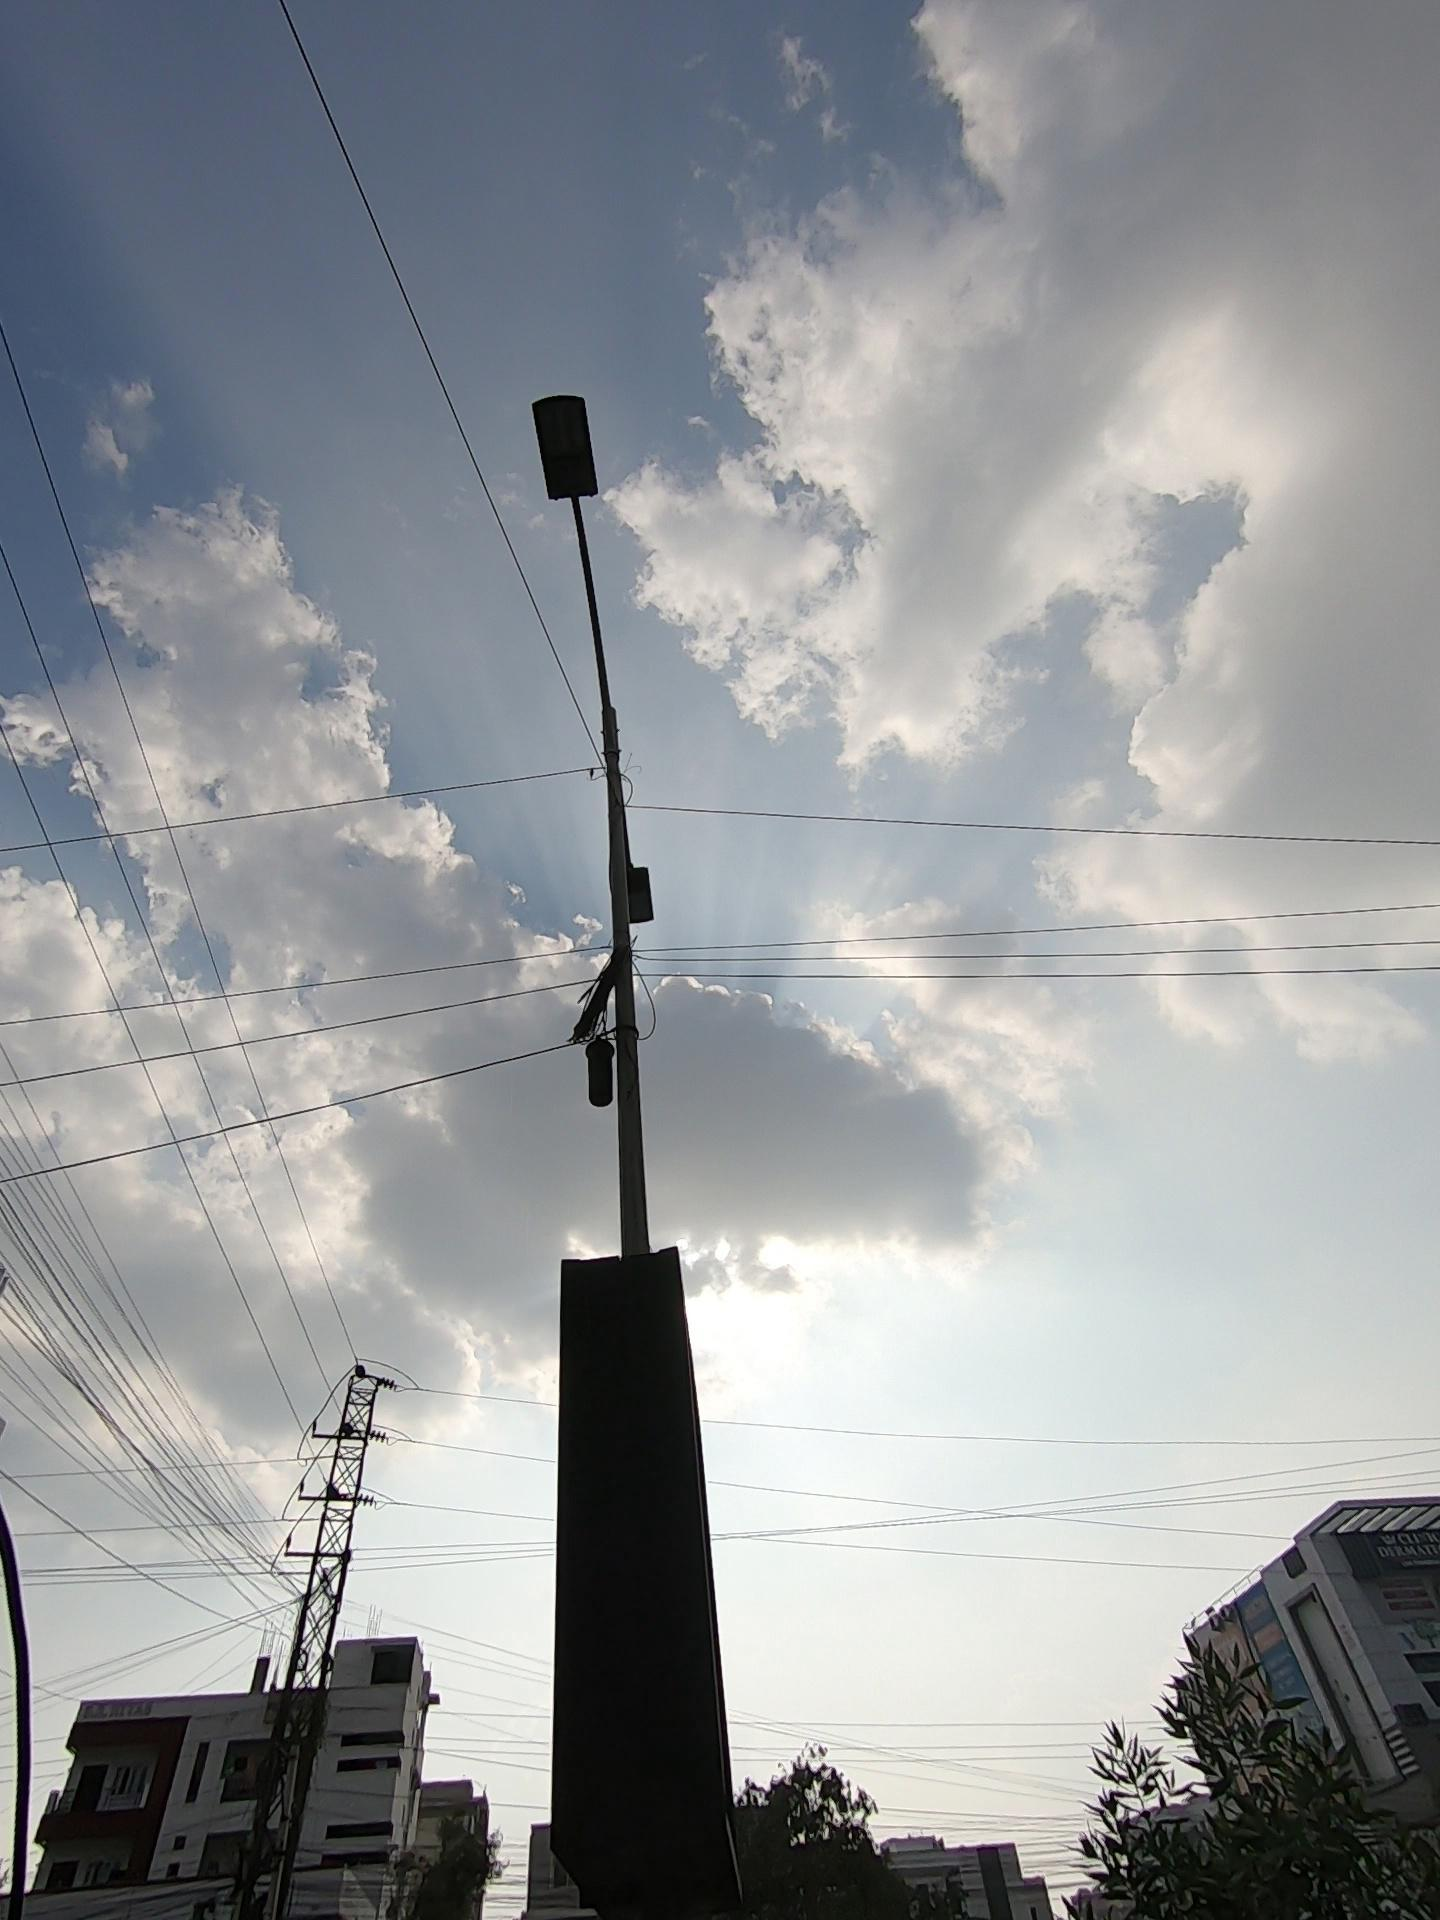off: (399, 331, 832, 1184)
